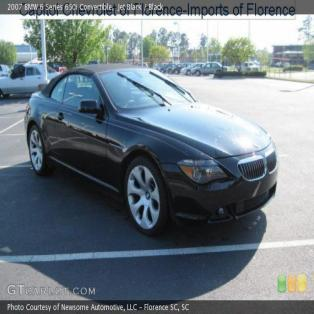Auto: (25, 64, 277, 234)
